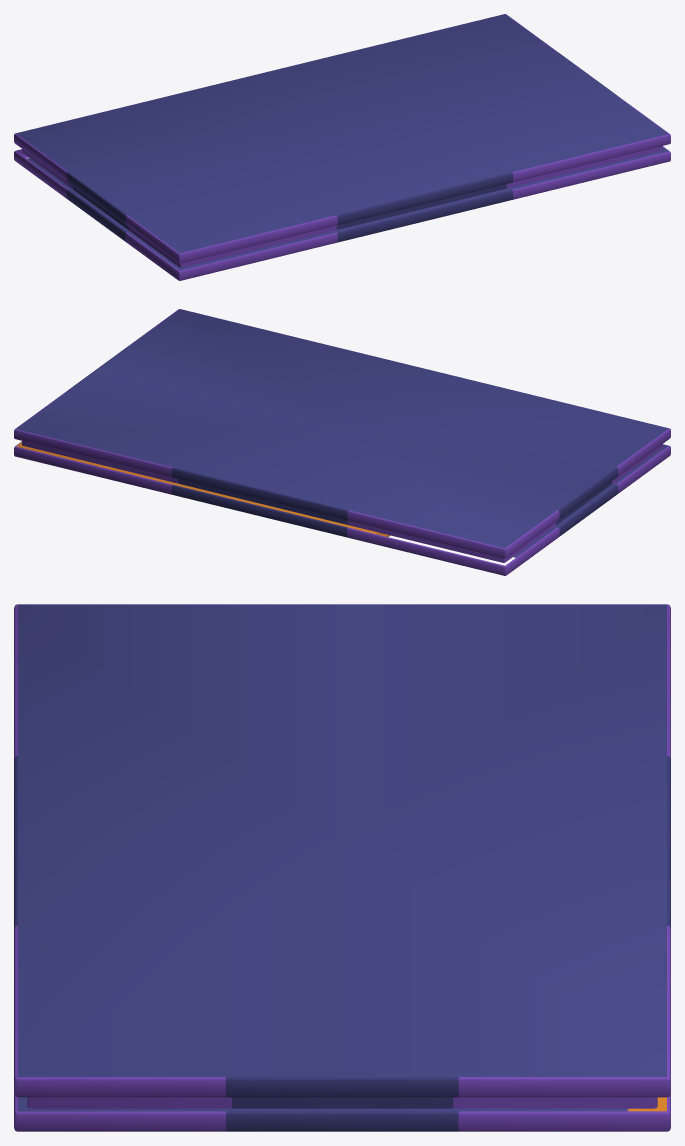
Rendered from Table_Top_long_R4.fbx.
3 renders of one model, top to bottom at view 1: azimuth 30°, elevation 25°; view 2: azimuth 150°, elevation 25°; view 3: azimuth 270°, elevation 25°, orthographic. The views are drawn at different scales.
Parts seen in each view (by area): view 1: mdl_Table_01_5; view 2: mdl_Table_01_5; view 3: mdl_Table_01_5.
Part boxes in pixels (left/top/right/bottom): mdl_Table_01_5: left=14, top=14, right=670, bottom=280; mdl_Table_01_5: left=14, top=309, right=670, bottom=575; mdl_Table_01_5: left=14, top=604, right=670, bottom=1131.
Size of the model in its own units: 680 by 36.3 by 397.
Materials: 1 (1 with a texture image).
